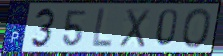0: (153, 8, 180, 49)
3: (30, 6, 57, 49)
5: (61, 9, 89, 48)
L: (90, 7, 114, 50)
O: (180, 7, 213, 50)
X: (117, 7, 152, 50)
